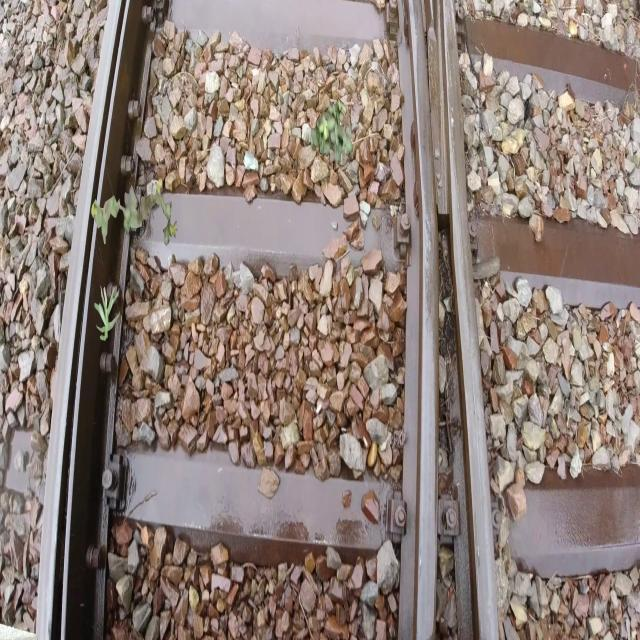Plant: (91, 178, 178, 247), (310, 98, 353, 164), (94, 285, 120, 342)
